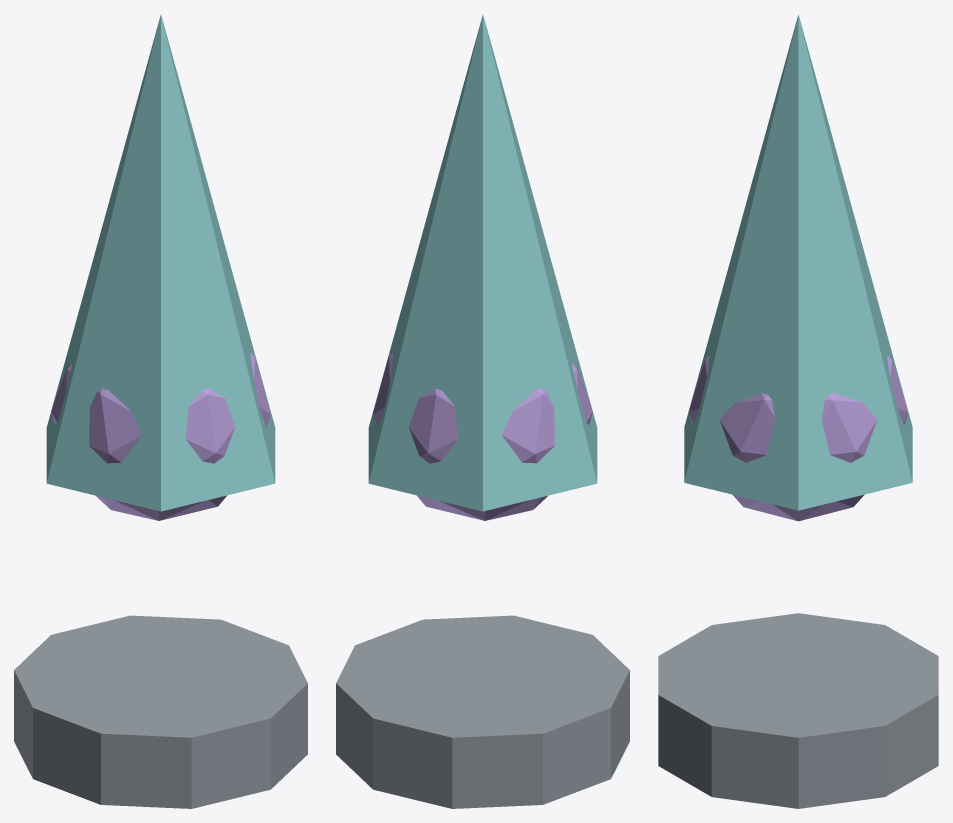
The model's file is cristal_magico.glb.
The picture shows the model from 3 angles, left to right: view 1: azimuth 30°, elevation 25°; view 2: azimuth 150°, elevation 25°; view 3: azimuth 270°, elevation 25°; orthographic projection.
Parts seen in each view (by area): view 1: part_001, part_000, part_002; view 2: part_001, part_000, part_002; view 3: part_001, part_000, part_002.
Boxes of the visible parts, <box> form: part_001: <box>46,15,275,511</box>; part_000: <box>14,615,307,808</box>; part_002: <box>51,352,270,520</box>; part_001: <box>368,15,597,511</box>; part_000: <box>336,615,629,808</box>; part_002: <box>373,352,592,520</box>; part_001: <box>684,14,912,510</box>; part_000: <box>658,613,938,808</box>; part_002: <box>688,355,908,521</box>.
Bounding box in the file's own units: 0.94 × 2.57 × 0.894.
